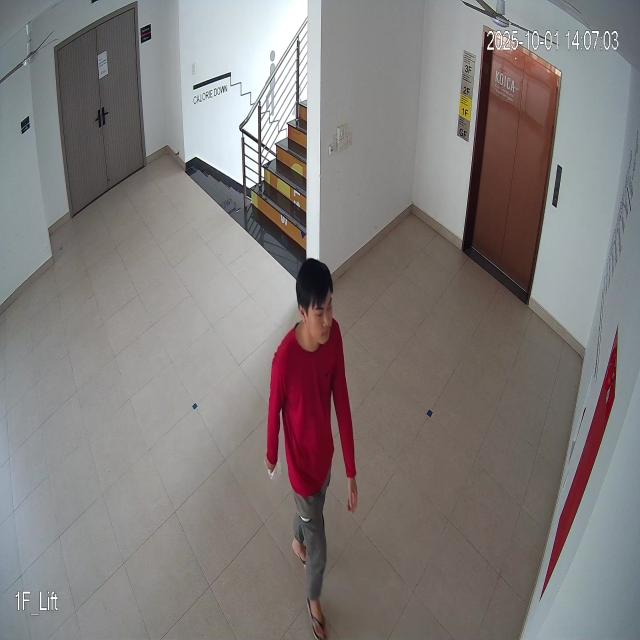face: (291, 251, 337, 354)
